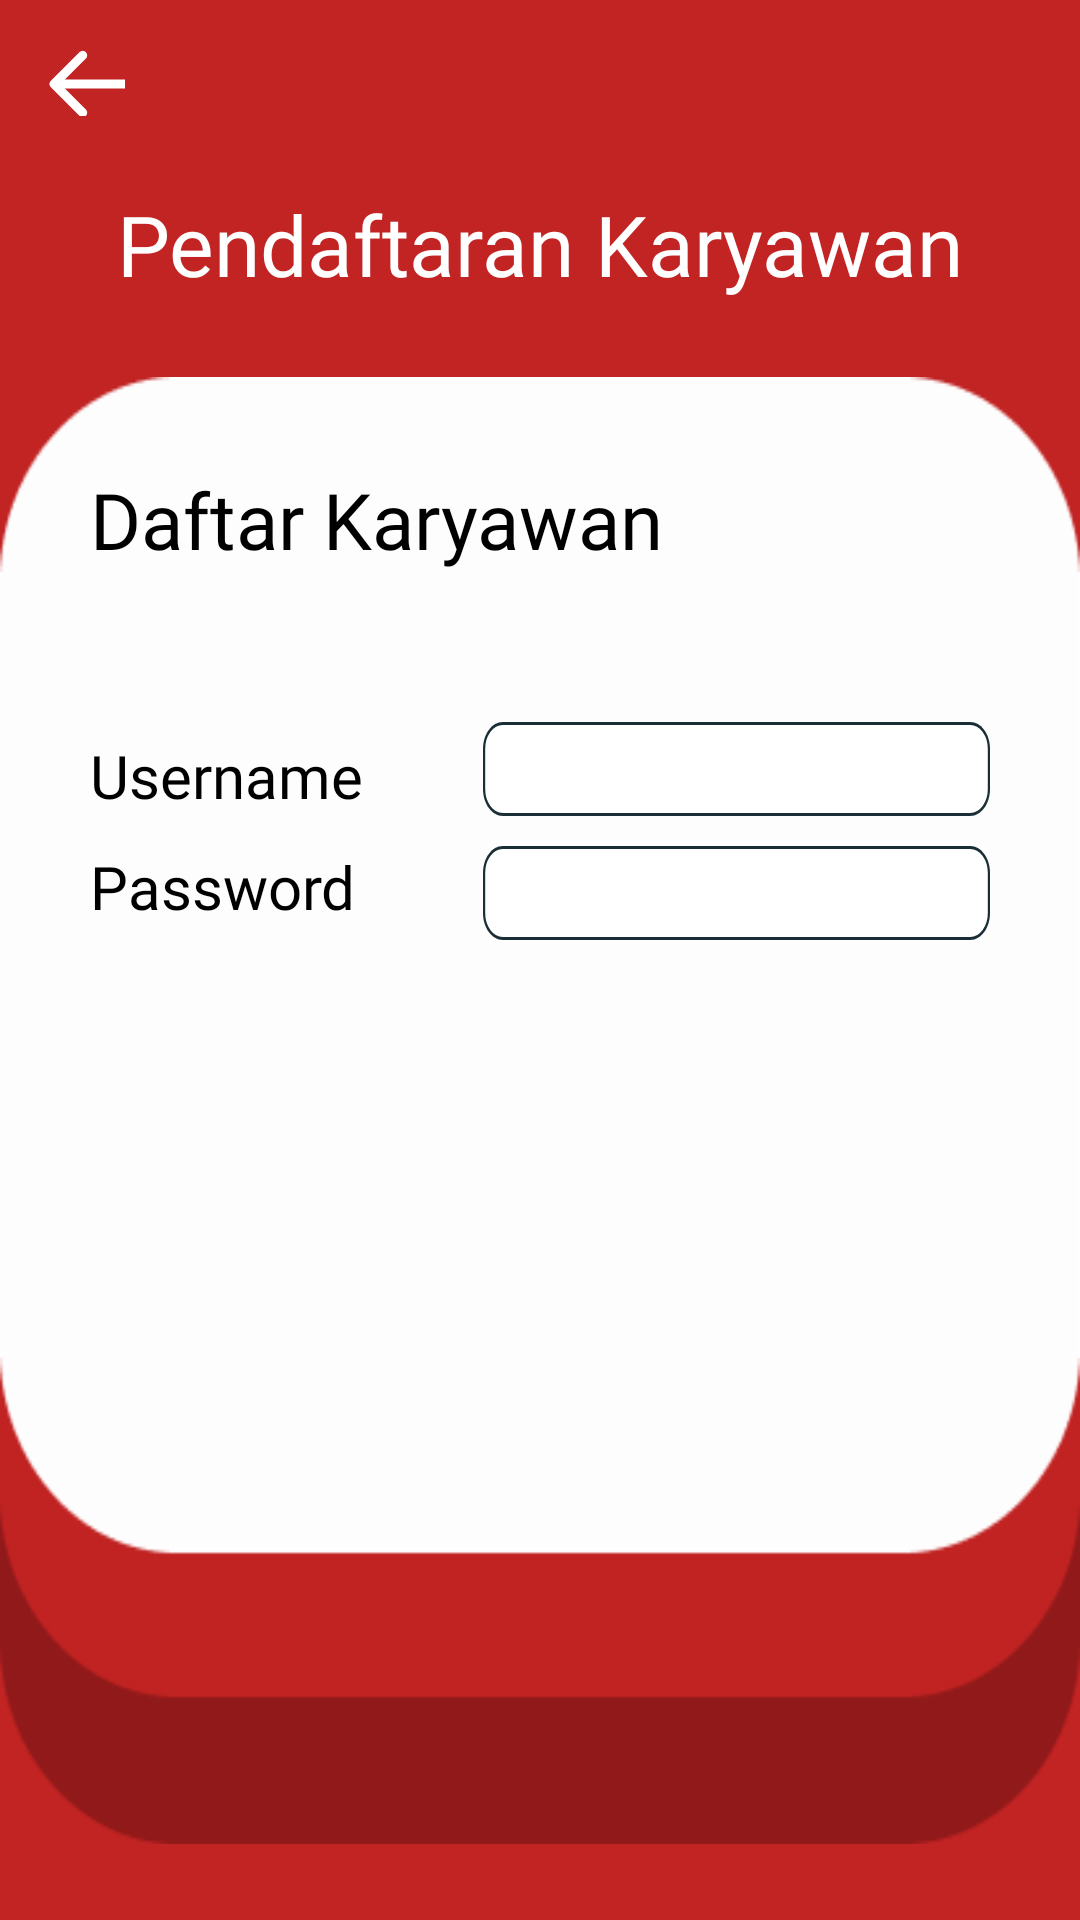

Locate icon controls on the screen. Image size 1080 × 1920, boxes as (x1, y1, x2, y2).
back: (49, 50, 125, 116)
